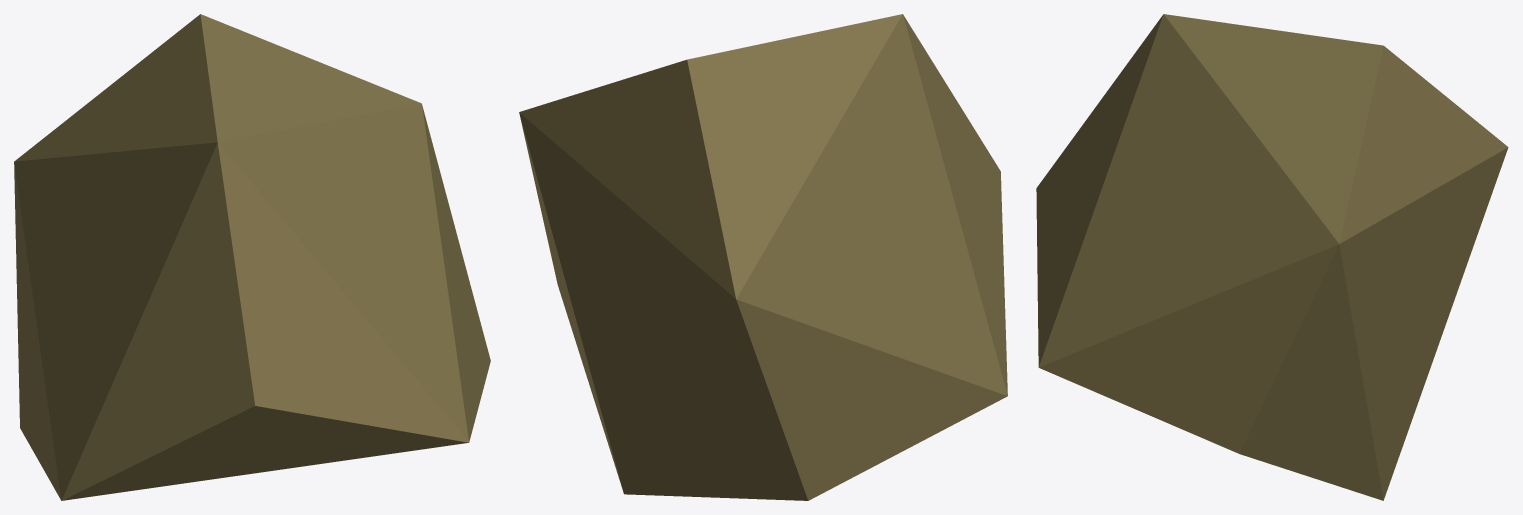
Rendered from Asteroid_001.FBX.
3 views of the same model, side by side, from view 1: azimuth 30°, elevation 25°; view 2: azimuth 150°, elevation 25°; view 3: azimuth 270°, elevation 25° (orthographic). The views are drawn at different scales.
Parts seen in each view (by area): view 1: ASTEROPID; view 2: ASTEROPID; view 3: ASTEROPID.
Part boxes in pixels (x1,y1,x2,y2): ASTEROPID: [14, 14, 490, 500]; ASTEROPID: [519, 14, 1007, 500]; ASTEROPID: [1036, 14, 1508, 500].
Size of the model in its own units: 0.1041 by 0.1033 by 0.1037.
